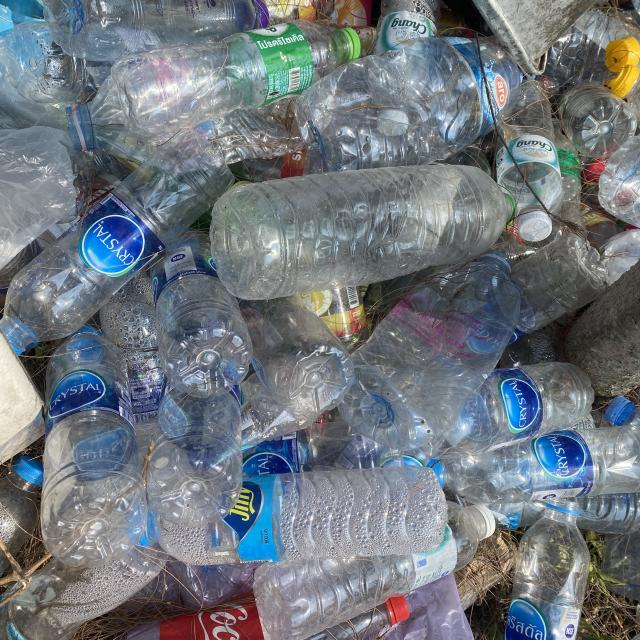Single-layer Plastic: (0, 126, 76, 269)
